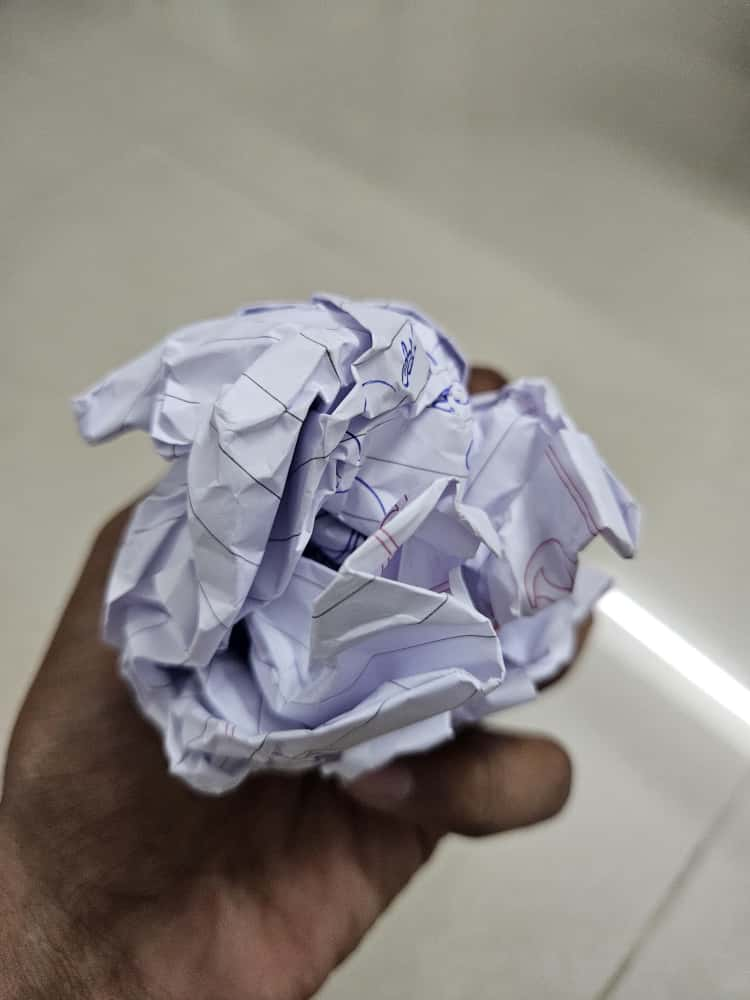dry: (71, 237, 639, 806)
